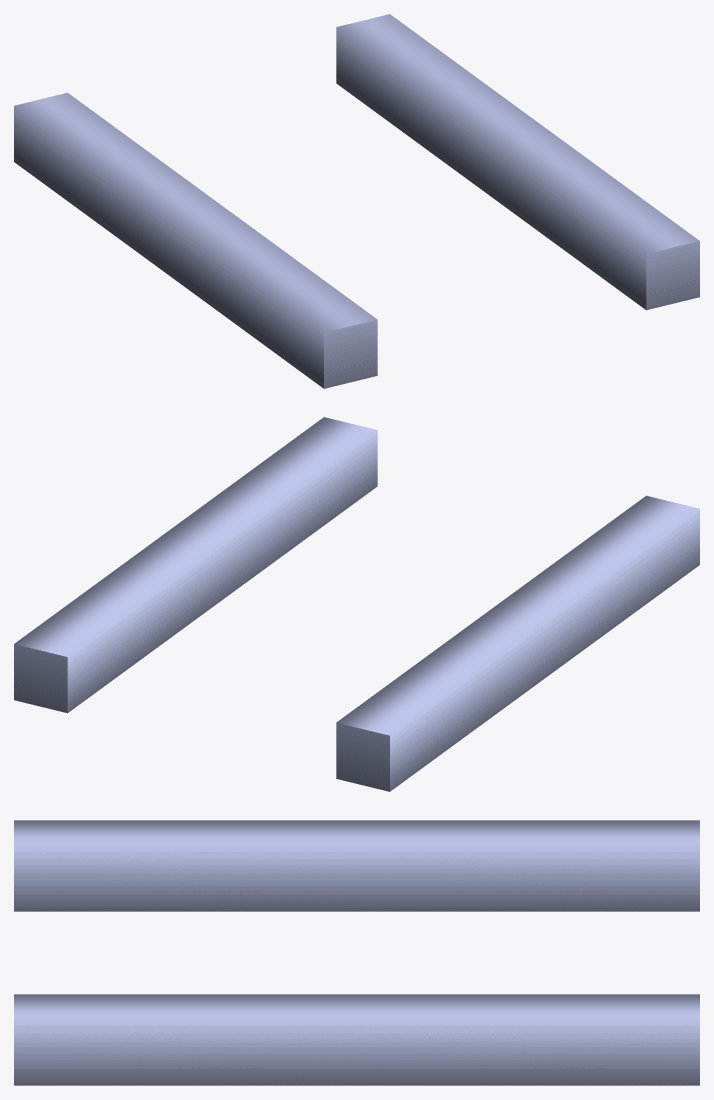
Rendered from train-kit--spline-track.glb.
The picture shows the model from 3 angles, top to bottom: view 1: azimuth 30°, elevation 25°; view 2: azimuth 150°, elevation 25°; view 3: azimuth 270°, elevation 25°; orthographic projection. The views are drawn at different scales.
Visible parts, largest first — view 1: spline-track; view 2: spline-track; view 3: spline-track.
Part boxes in pixels (x1,y1,x2,y2): spline-track: (14,14,699,388); spline-track: (14,417,699,791); spline-track: (14,820,699,1085).
Bounding box in the file's own units: 0.7 × 0.1 × 1.
Materials: 1 (1 with a texture image).
